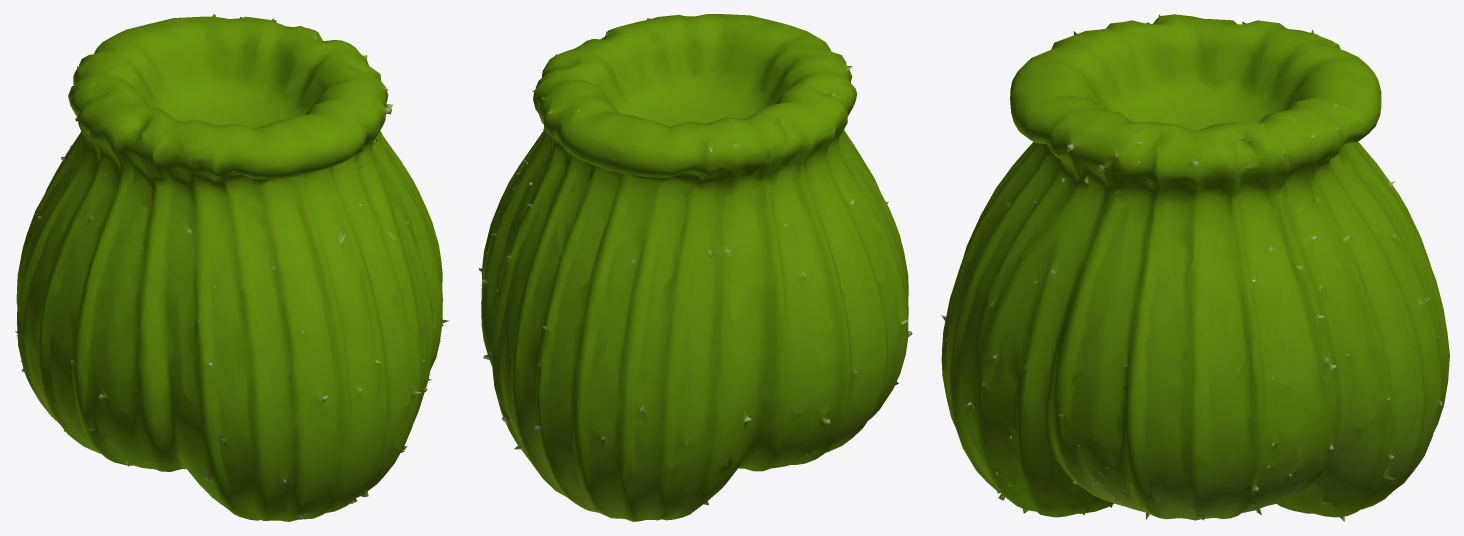
File: body.glb
3 views of the same model, side by side, from view 1: azimuth 30°, elevation 25°; view 2: azimuth 150°, elevation 25°; view 3: azimuth 270°, elevation 25° (orthographic). The views are drawn at different scales.
Visible parts, largest first — view 1: tripo_node_702c2f47-adf3-42c7-a4ec-32201dcb2c59; view 2: tripo_node_702c2f47-adf3-42c7-a4ec-32201dcb2c59; view 3: tripo_node_702c2f47-adf3-42c7-a4ec-32201dcb2c59.
Part boxes in pixels (x1,y1,x2,y2): tripo_node_702c2f47-adf3-42c7-a4ec-32201dcb2c59: [15, 14, 449, 521]; tripo_node_702c2f47-adf3-42c7-a4ec-32201dcb2c59: [478, 14, 912, 521]; tripo_node_702c2f47-adf3-42c7-a4ec-32201dcb2c59: [941, 14, 1449, 521].
Bounding box in the file's own units: 0.9395 × 0.933 × 1.
1 material, 1 textured.
